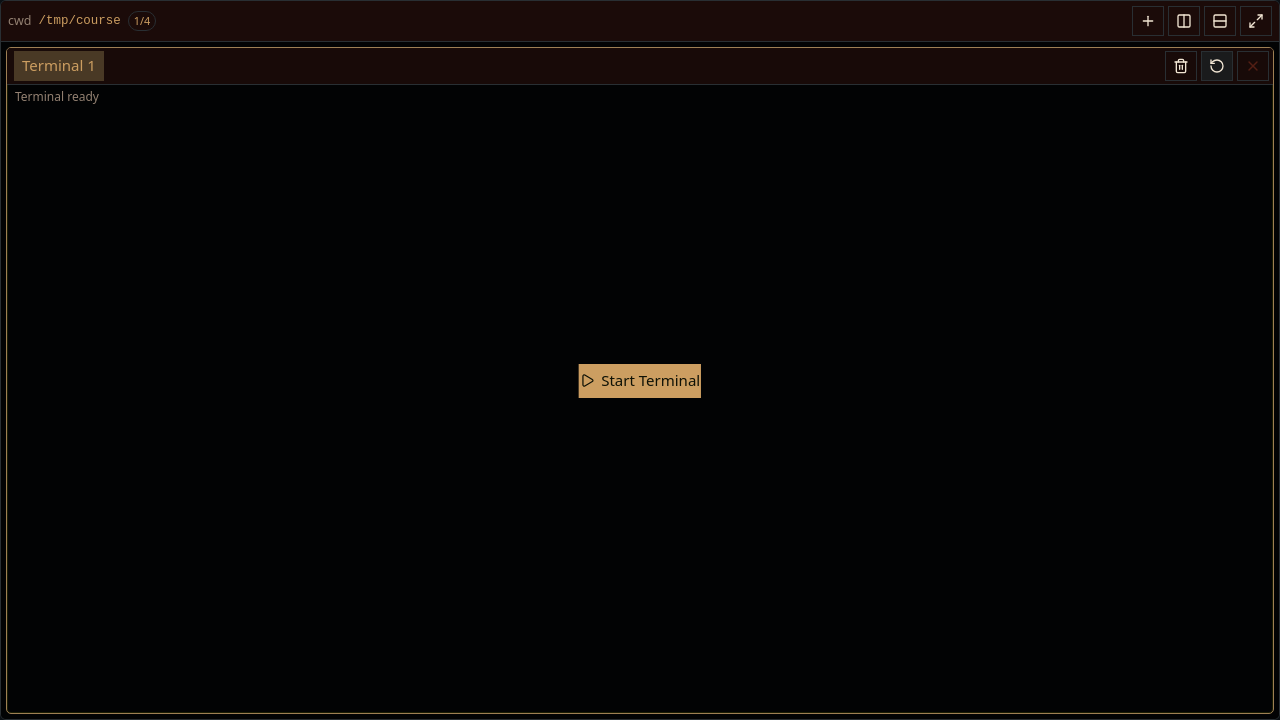
falls back when fit throws and never starts with zero dimensions
Click the button "Start Terminal" at (640, 380), box [579,364,701,398]
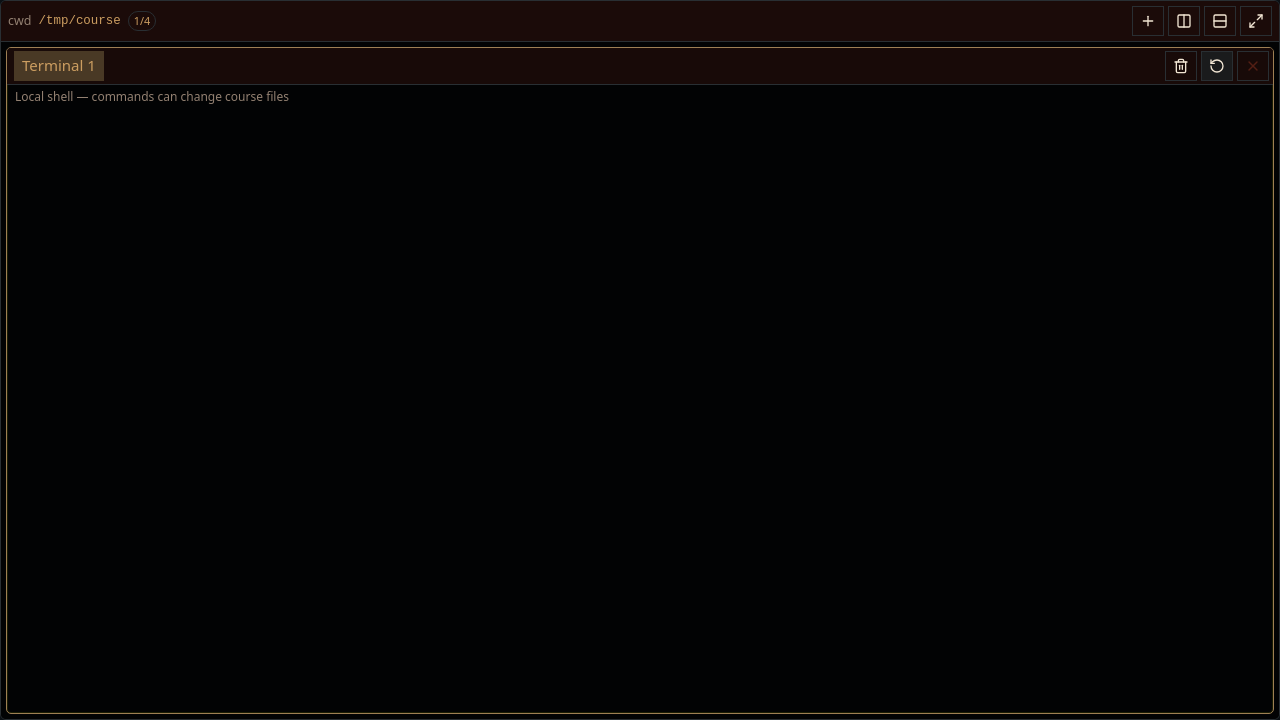
Check: the message shows "Local shell", box [15,88,289,105]
